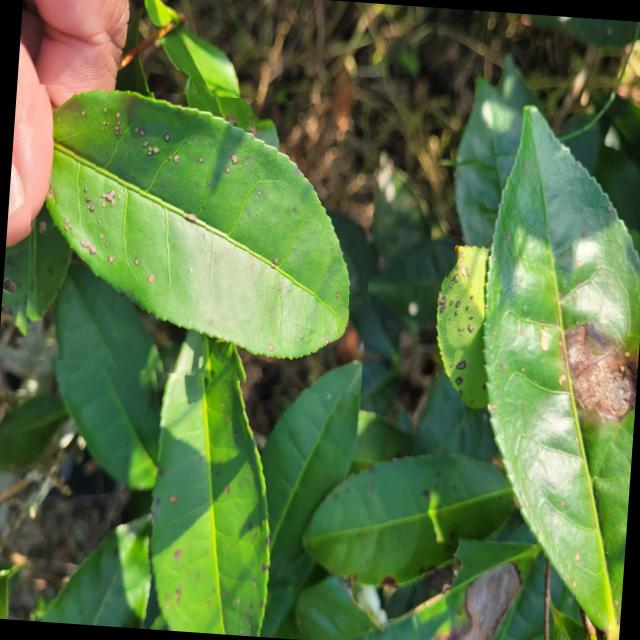Category D(7+ days, Not for Tea): (16, 83, 379, 394)
